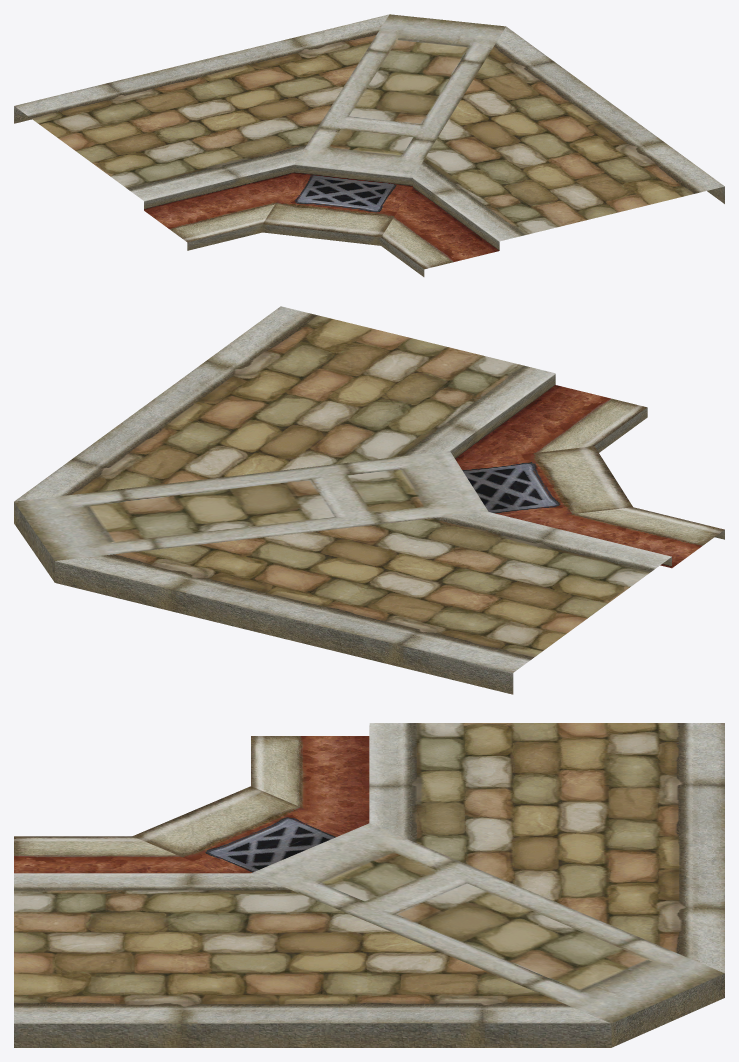
The model's file is obj_masabkinle01.glb.
3 views of the same model, one above another, from view 1: azimuth 30°, elevation 25°; view 2: azimuth 150°, elevation 25°; view 3: azimuth 270°, elevation 25° (orthographic). The views are drawn at different scales.
Parts seen in each view (by area): view 1: part_0; view 2: part_0; view 3: part_0.
Boxes of the visible parts, x1,y1,x2,y2 form: part_0: [14, 14, 724, 276]; part_0: [14, 306, 724, 694]; part_0: [14, 723, 724, 1047].
Bounding box in the file's own units: 6 × 0.2275 × 6.
Materials: 2 (2 with a texture image).
